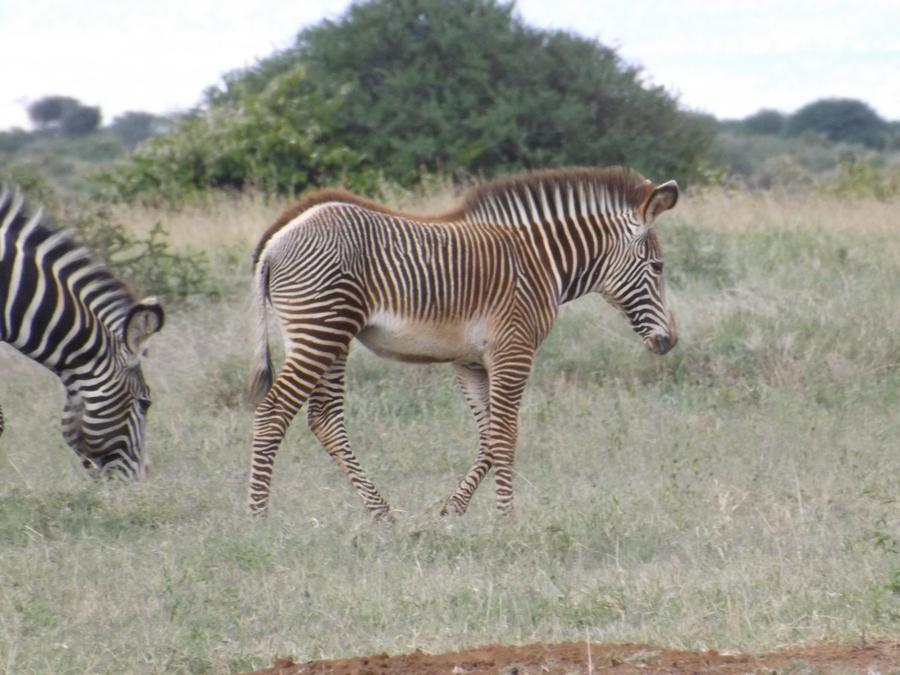zebra_grevys: (248, 182, 540, 365)
